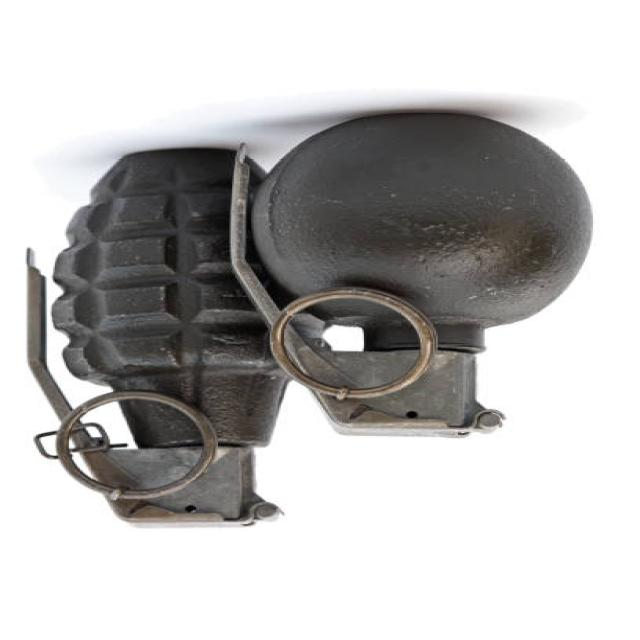grenade: (225, 104, 596, 448), (13, 141, 321, 533)
